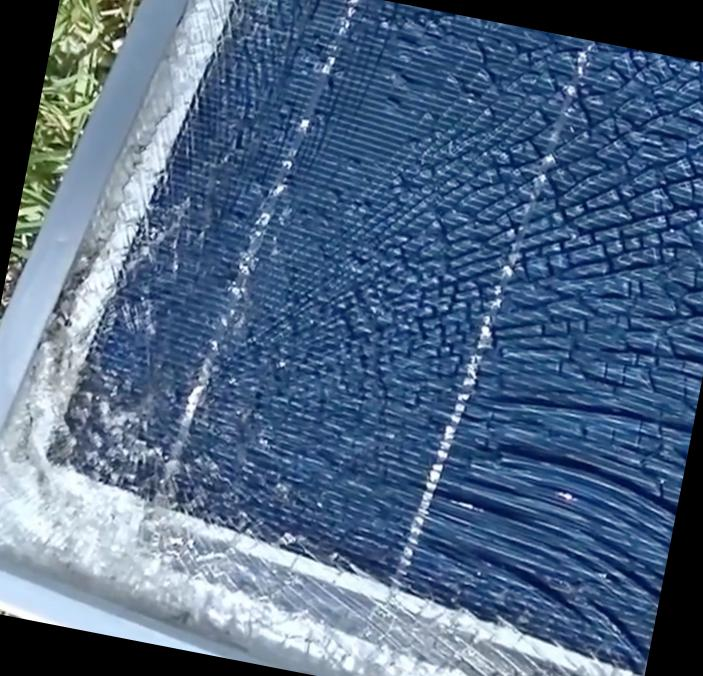Crack: (308, 8, 702, 640), (57, 211, 280, 512)
